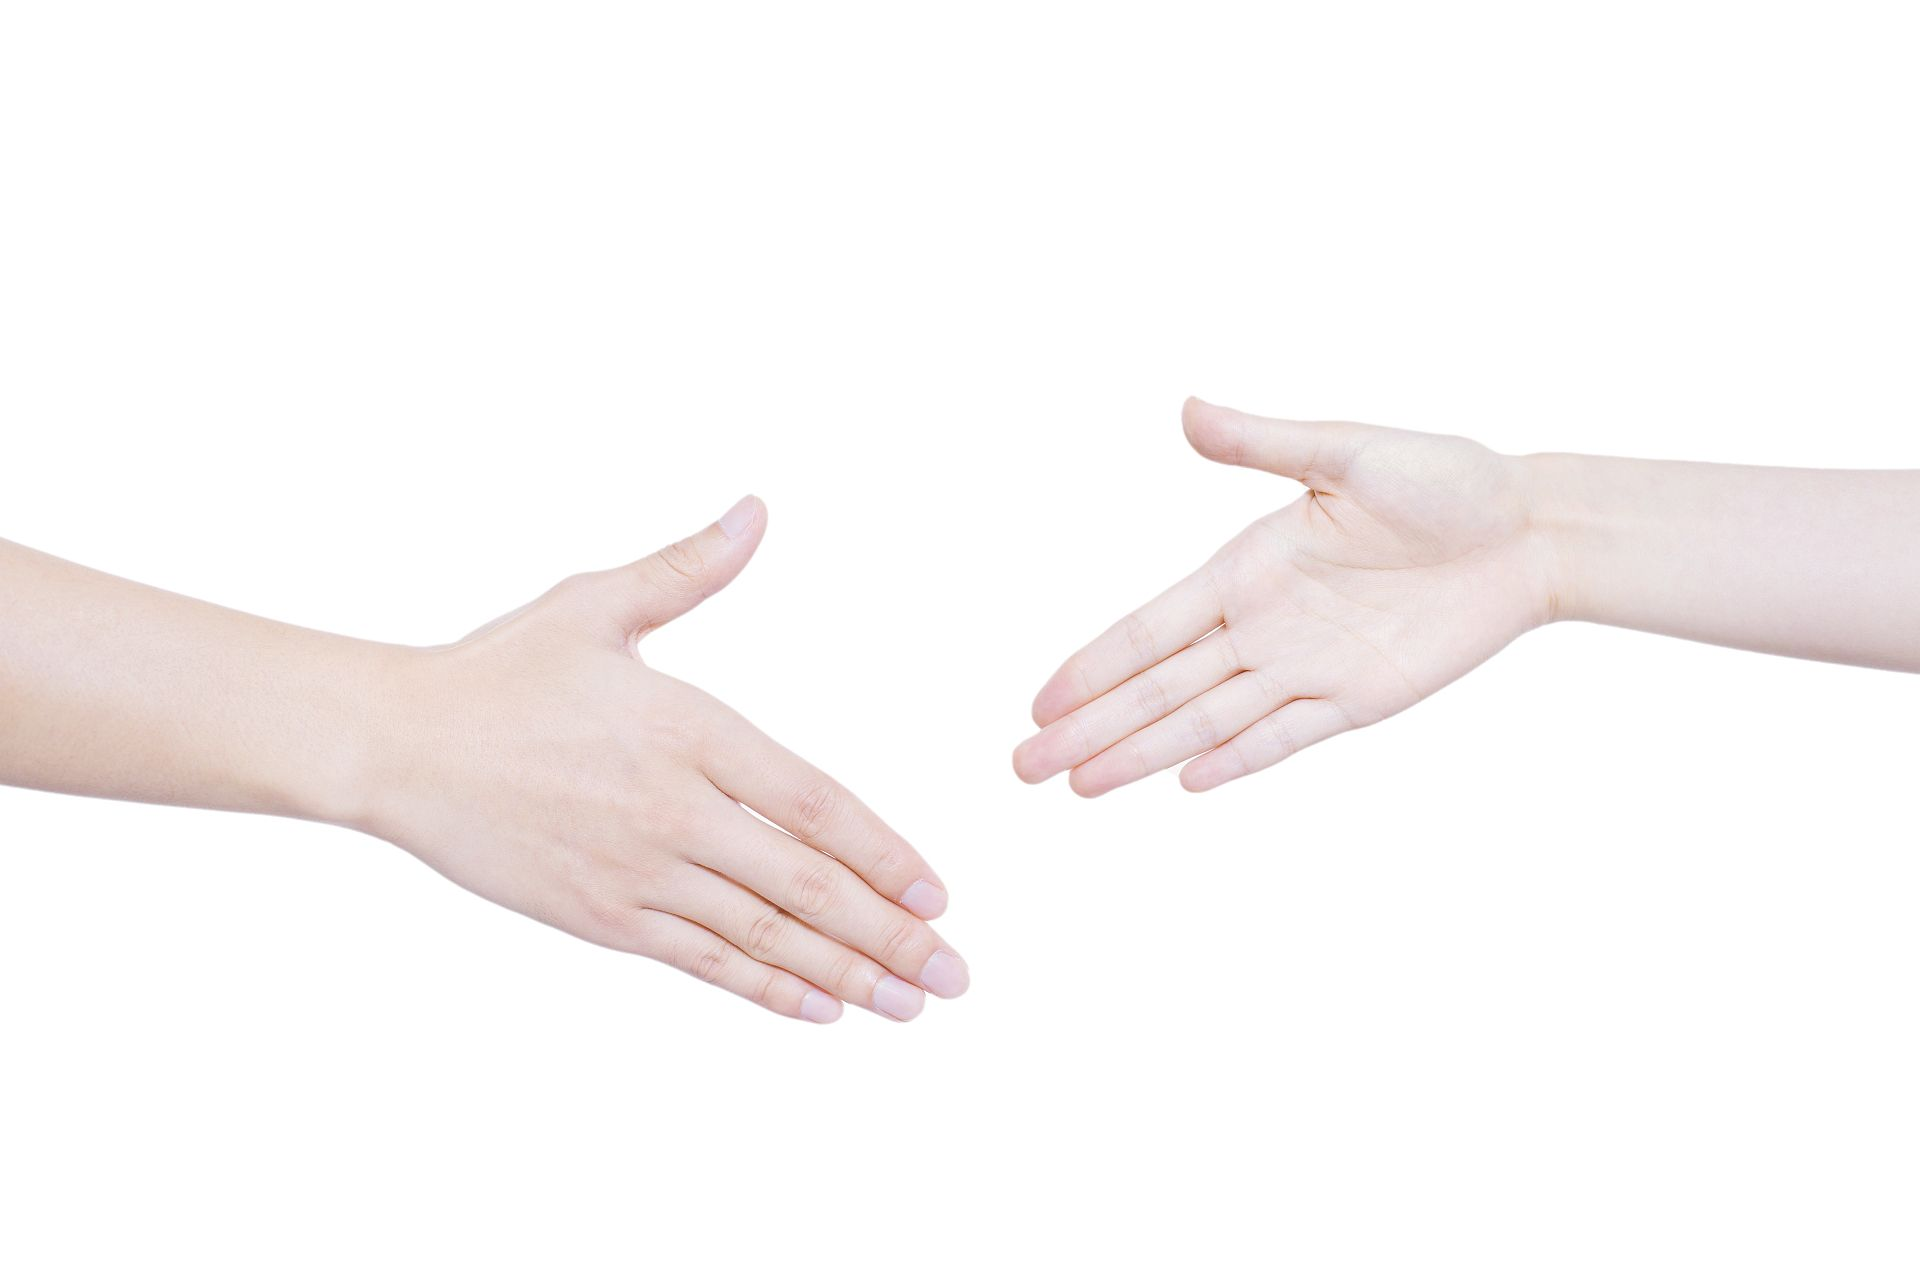no-phone: (366, 491, 974, 1034), (1009, 387, 1549, 813)
